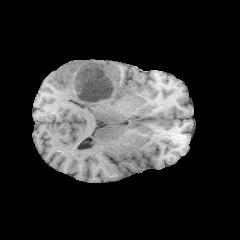glioma: (62, 61, 138, 106)
